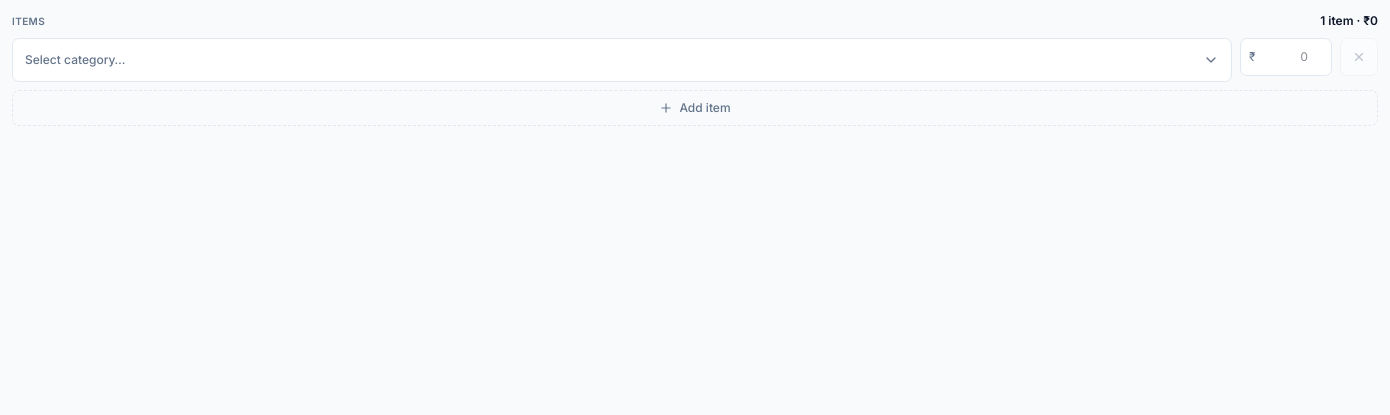
Test: MultiItemExpenseForm — placing a new item under an existing subcategory › creates the new item nested under an EXISTING subcategory picked in the second step (egg under Meat)
Click the button "Select category…": (75, 60) [12, 38, 1232, 82]
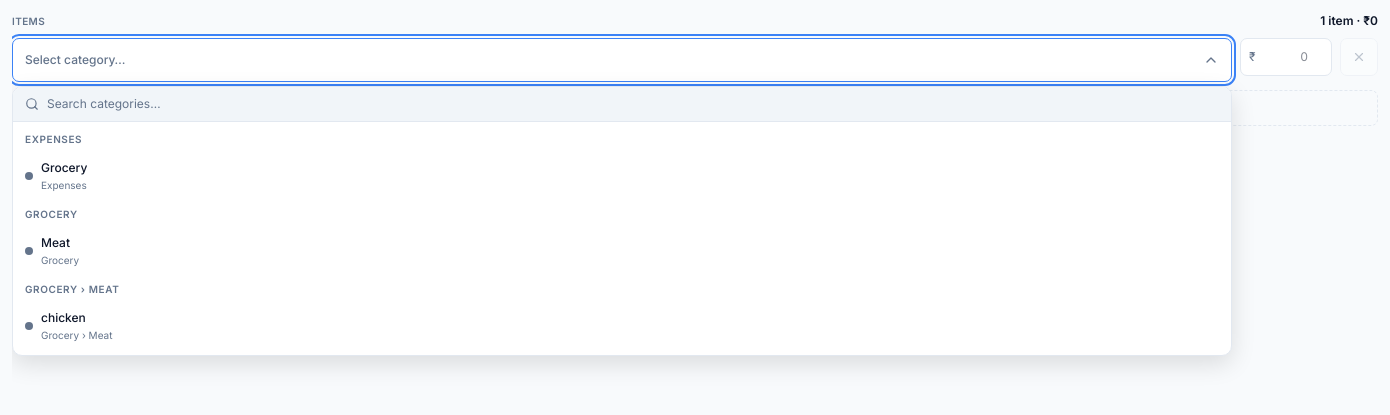
In the field with placeholder "Search categories…": (633, 104) [47, 95, 1219, 113], type "egg"
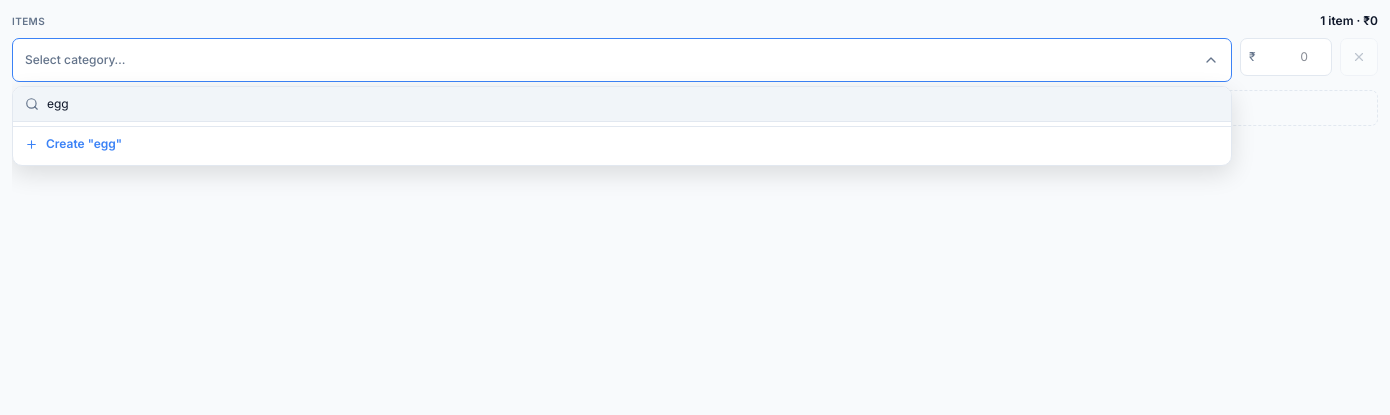
Click the button "Create \"egg\"": (84, 144) [13, 126, 1231, 161]
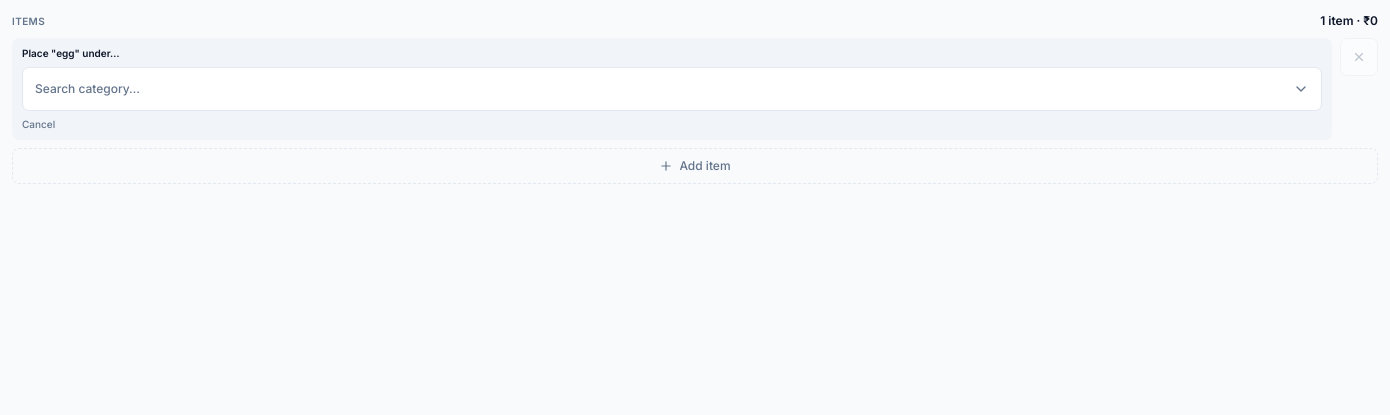
Click the button "Search category…": (87, 88) [22, 67, 1322, 111]
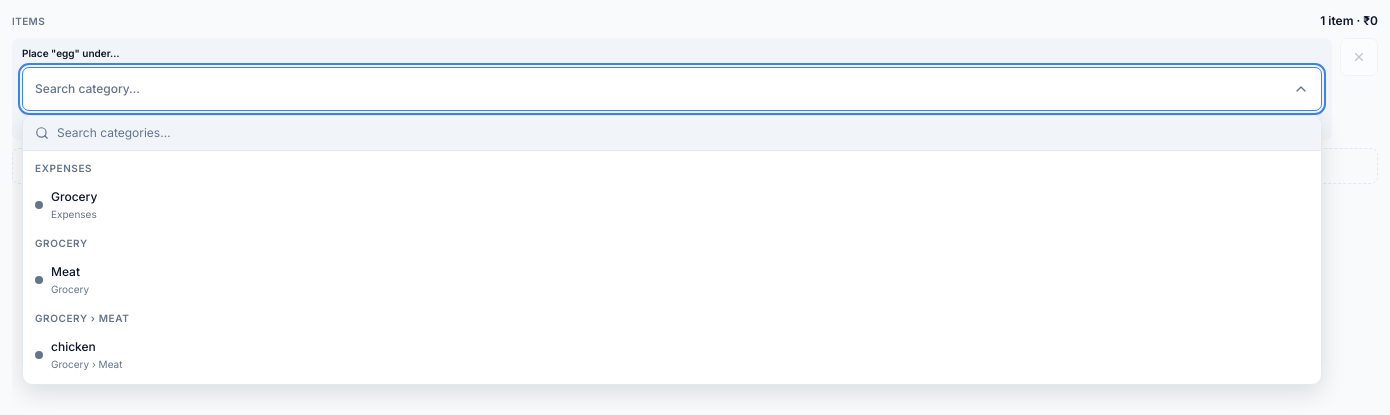
In the field with placeholder "Search categories…": (683, 133) [57, 124, 1309, 142], type "Meat"
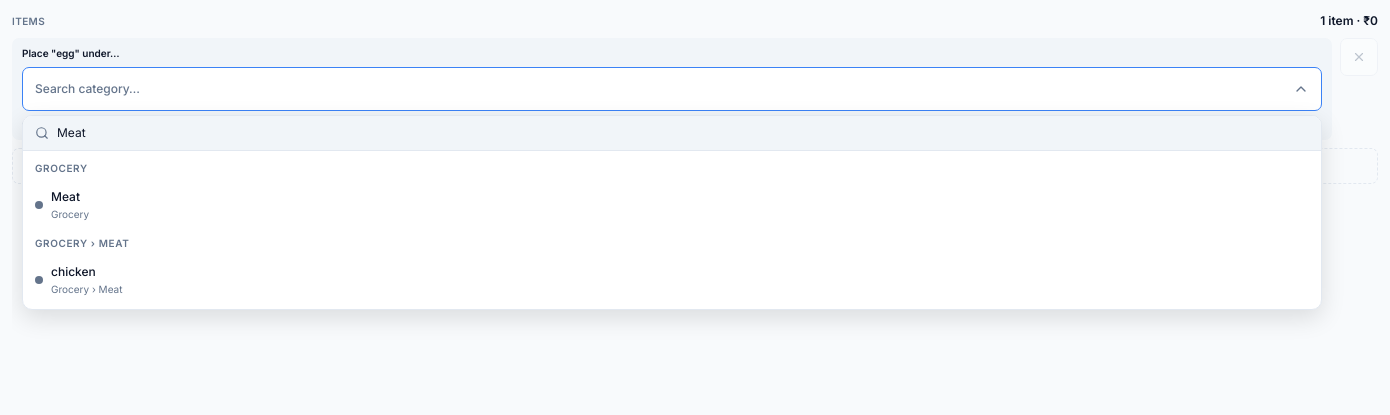
Click the text "Meat": (66, 196) [51, 189, 80, 204]
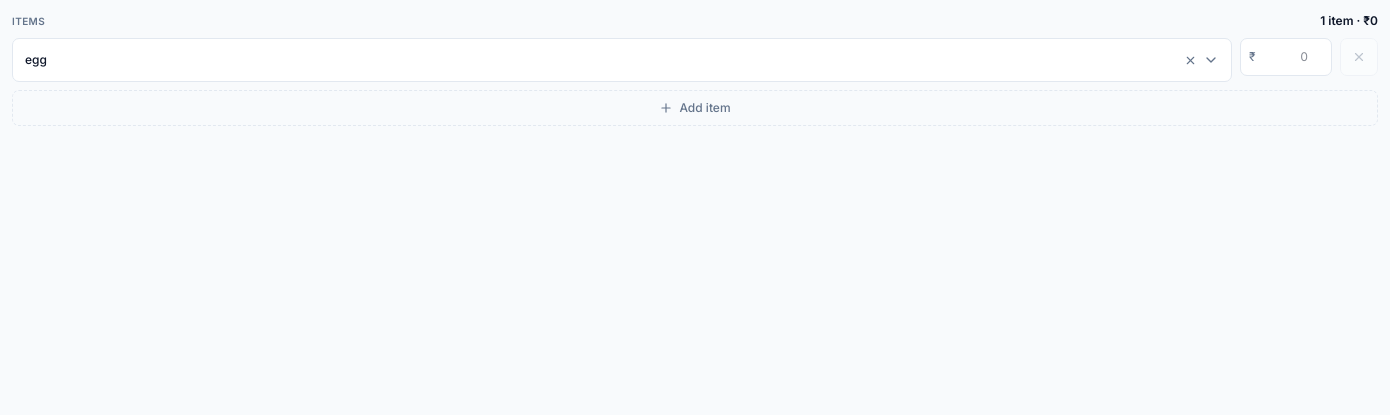
Now the text "Place \"egg\" under" is gone
